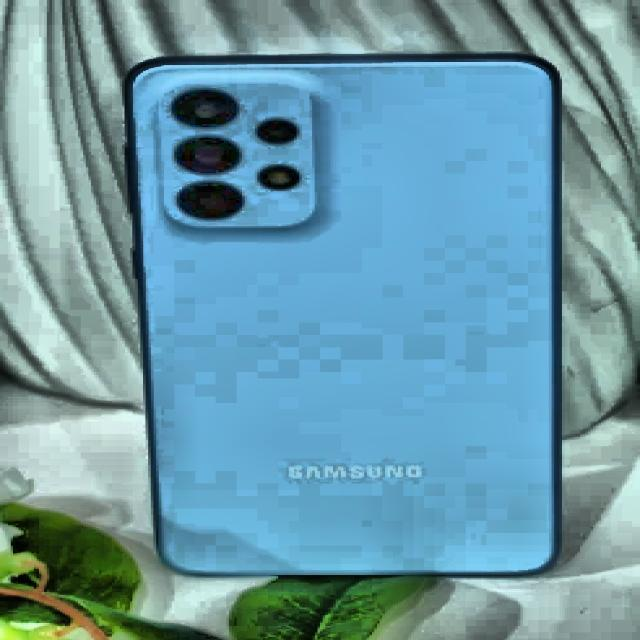Phone: (121, 50, 562, 580)
